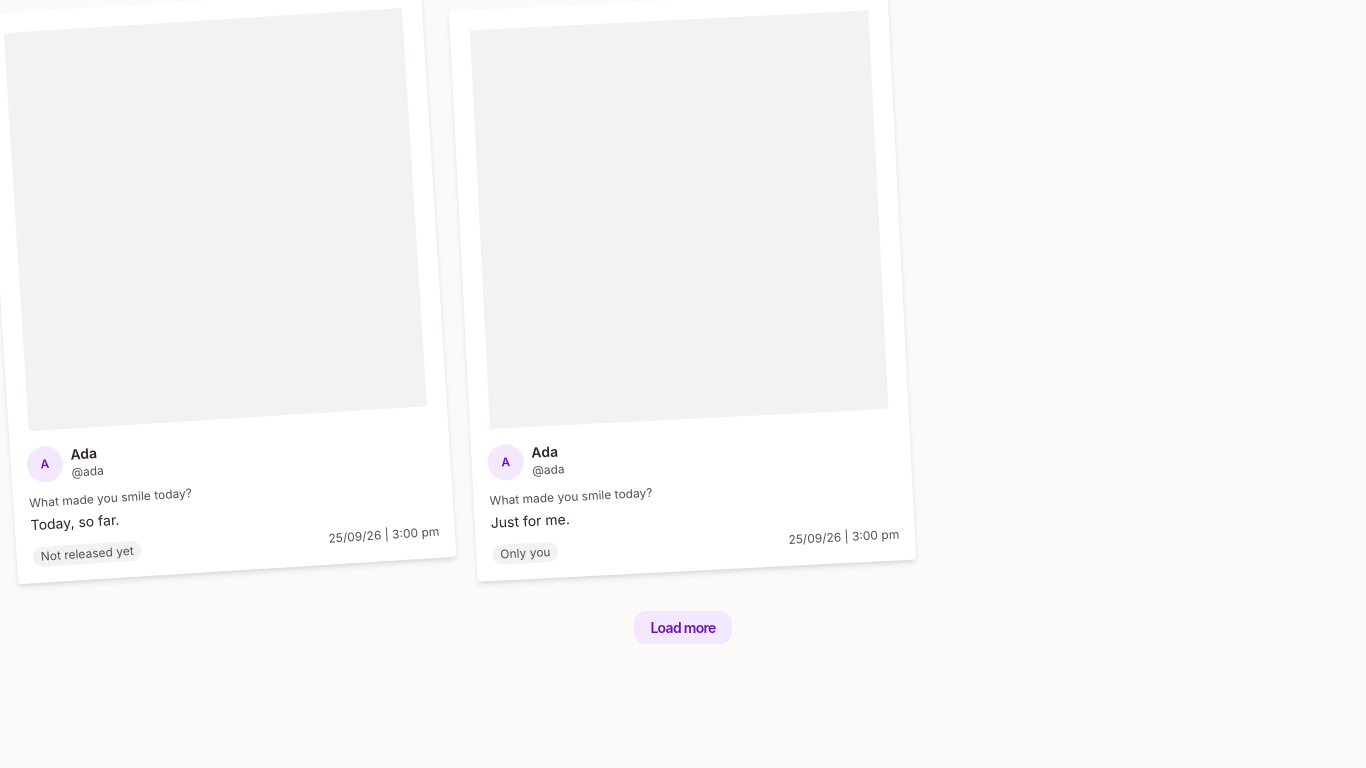
Test: ProfilePosts › labels the owner's solo and unreleased posts and loads the next page
Expected: the text "Today, so far." is shown, [30, 511, 120, 534]
Expected: the text "Not released yet" is shown, [32, 541, 142, 568]
Click the button "Load more". click: (683, 628)
box: [634, 611, 732, 644]
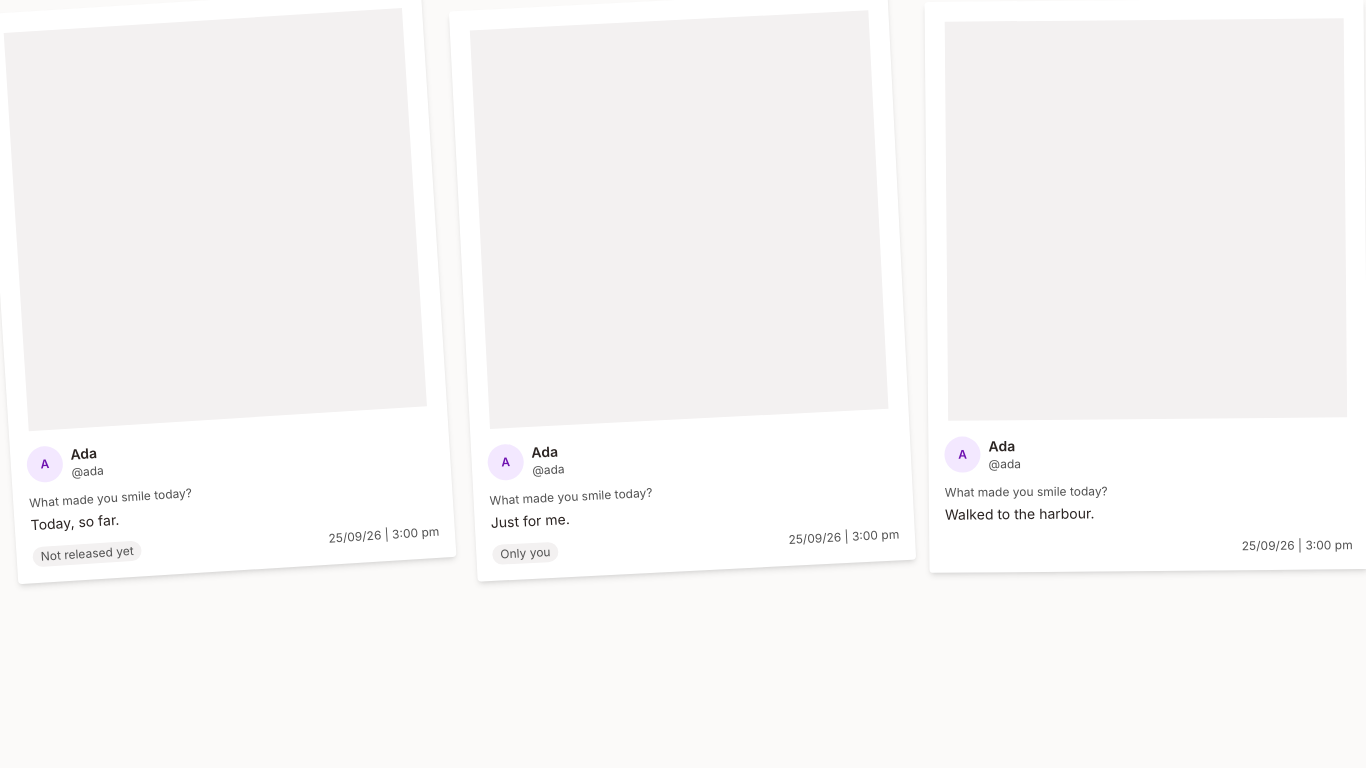
Result: the text "Walked to the harbour." is shown at [945, 505, 1094, 523]
Result: the button "Load more" is gone
